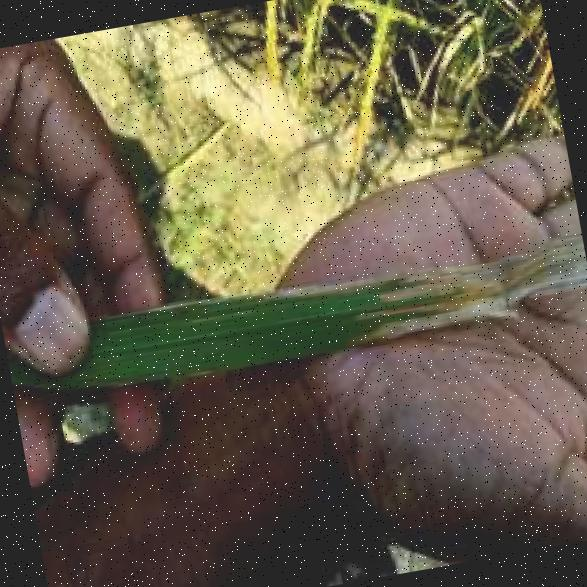Bacteria_Leaf_Blight: (154, 202, 584, 370)
